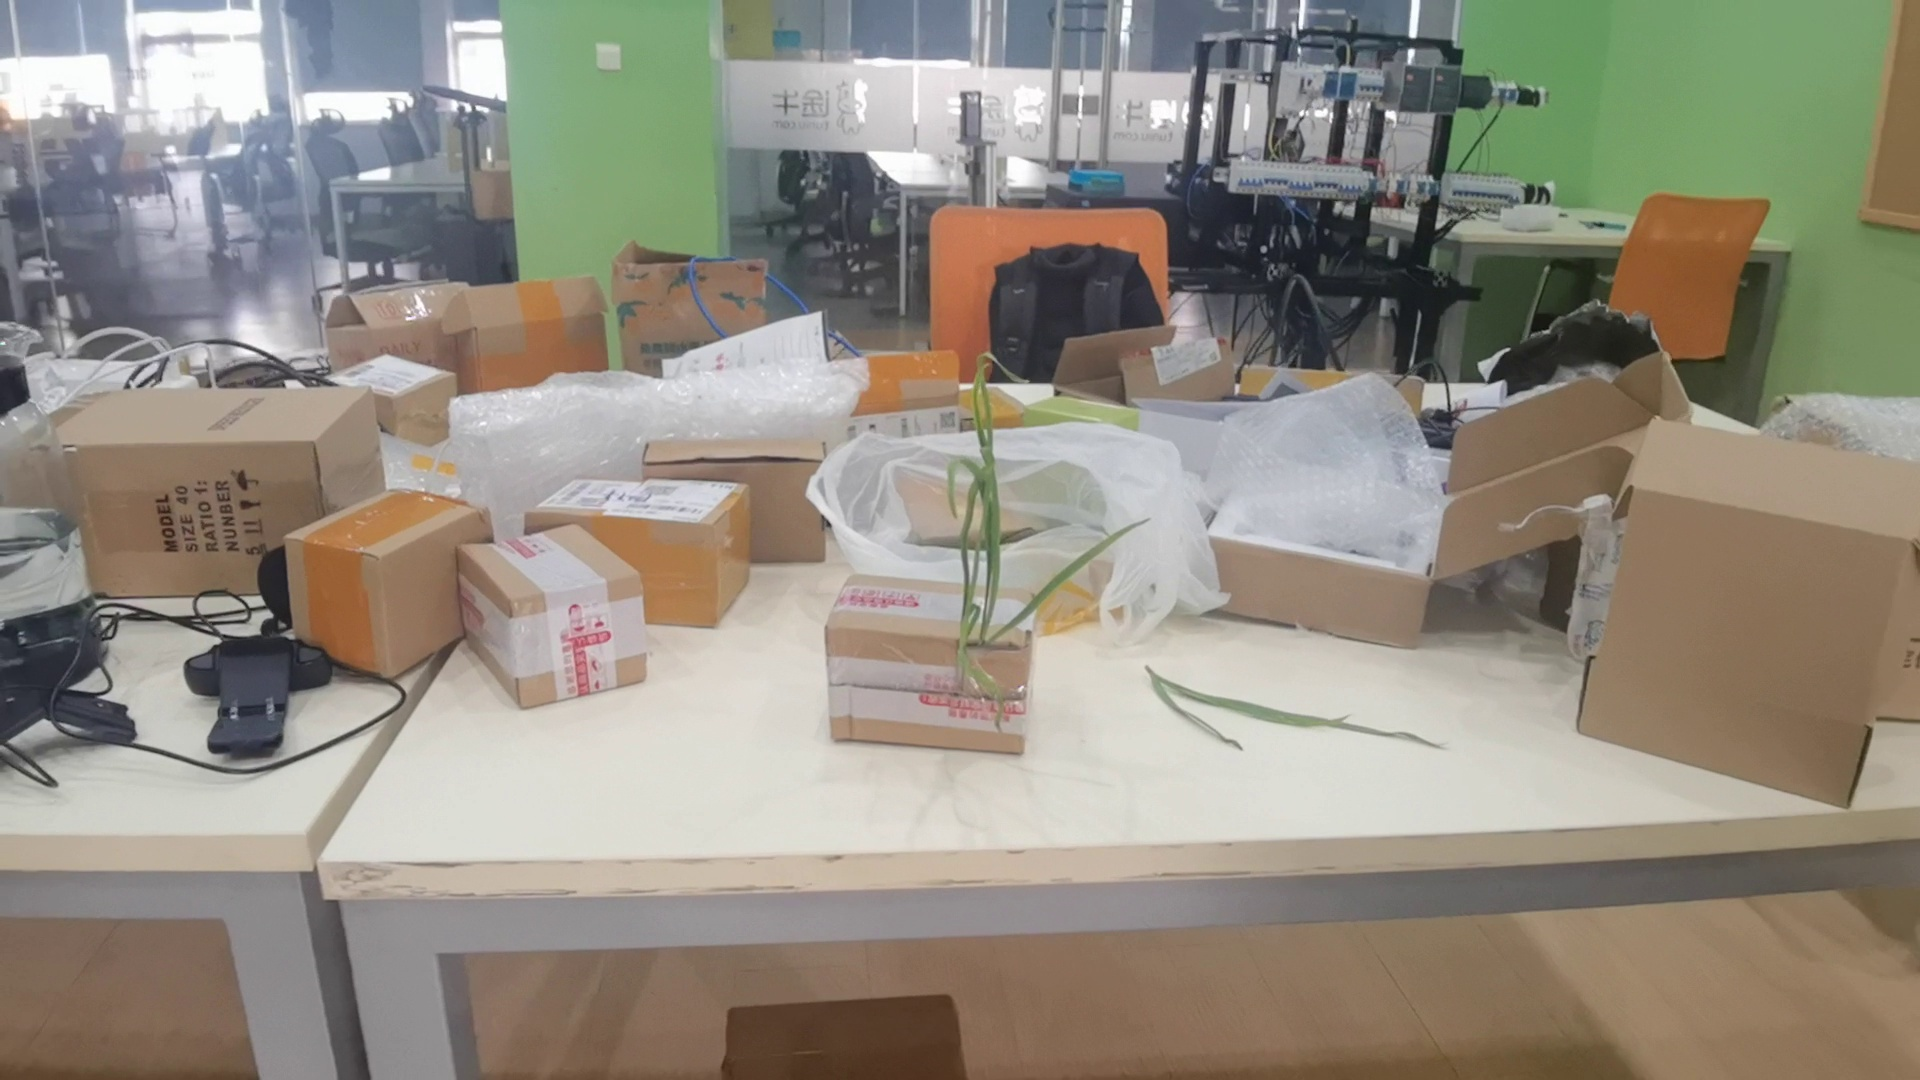chives: (924, 361, 1174, 731), (1120, 651, 1447, 783)
